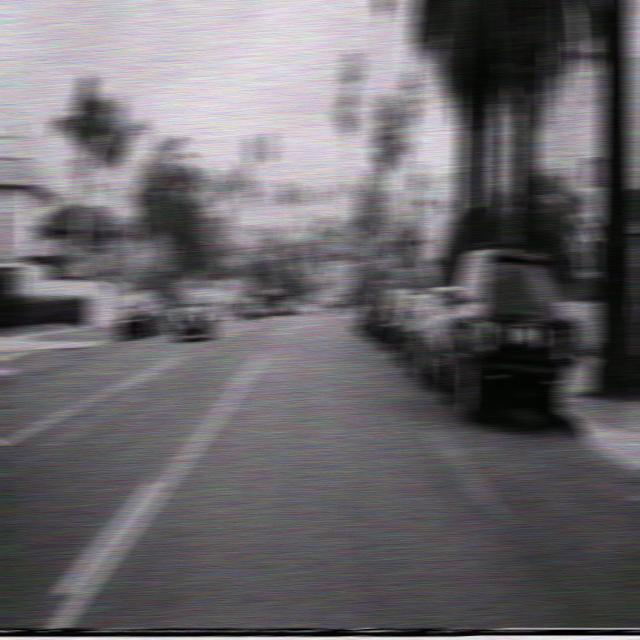pedestrianCrossing: (388, 240, 406, 266)
